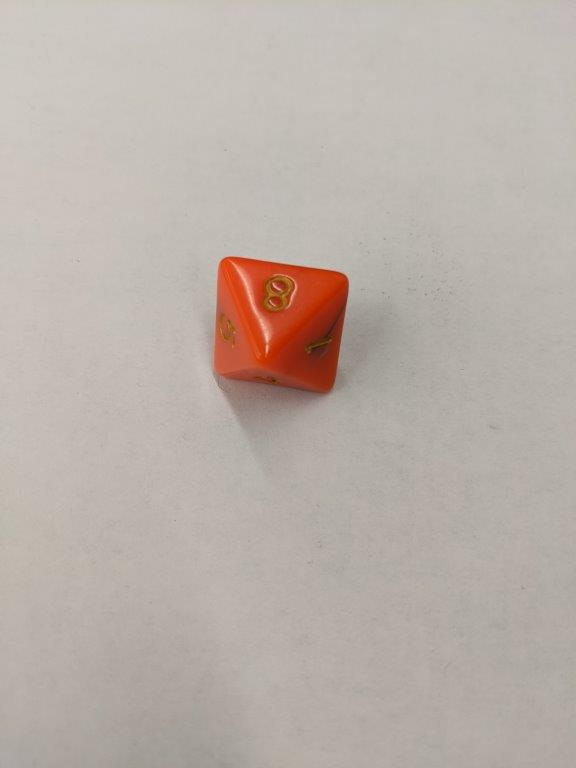d8-8: (208, 256, 349, 400)
